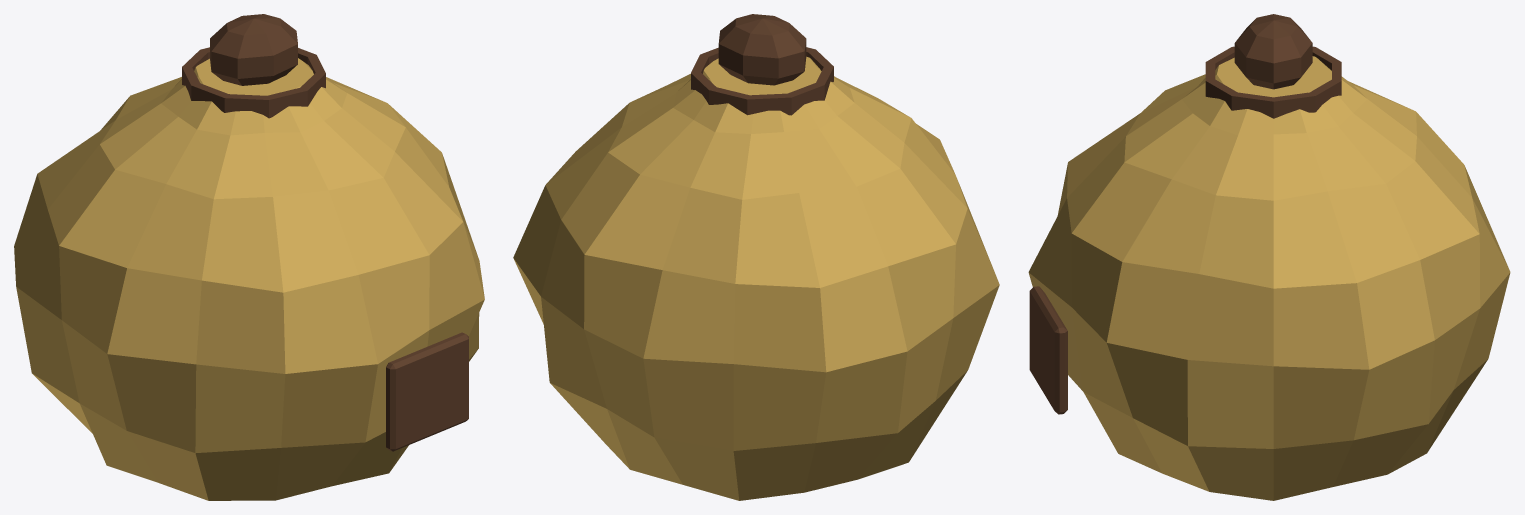
Rendered from sack.fbx.
3 renders of one model, left to right at view 1: azimuth 30°, elevation 25°; view 2: azimuth 150°, elevation 25°; view 3: azimuth 270°, elevation 25°, orthographic.
Visible parts, largest first — view 1: sack; view 2: sack; view 3: sack.
Part boxes in pixels (x1,y1,x2,y2): sack: (14, 14, 484, 500); sack: (513, 14, 999, 500); sack: (1028, 14, 1510, 500).
Bounding box in the file's own units: 66.53 × 70.75 × 70.73.
